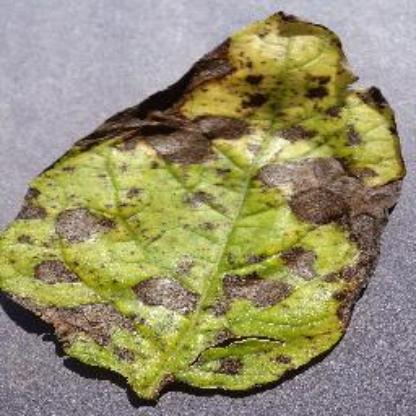Early-Blight: (1, 8, 410, 408)
